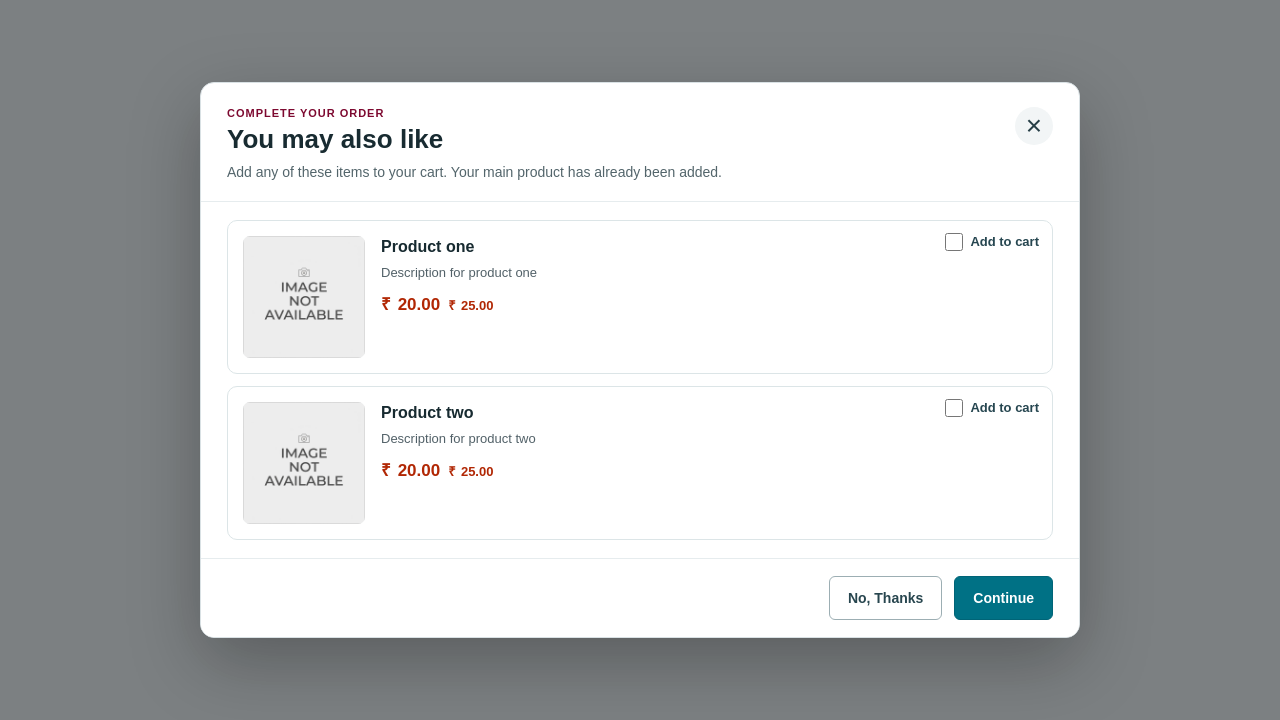
related product chooser › shows a recoverable server error and refreshes disallowed selections
Click the 1st checkbox labelled "Add to cart". click: [954, 242]
box: [945,233,963,251]
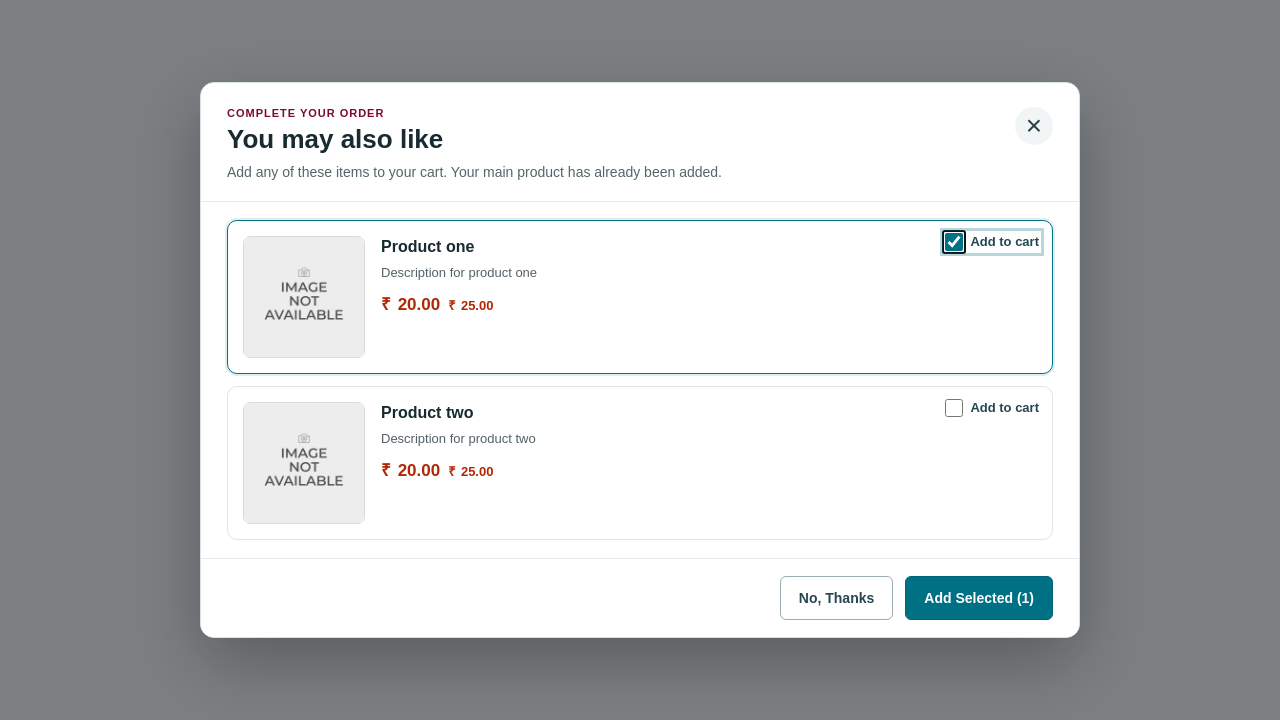
Click the button "Add Selected (1)". click: [979, 598]
box: [905,576,1053,620]
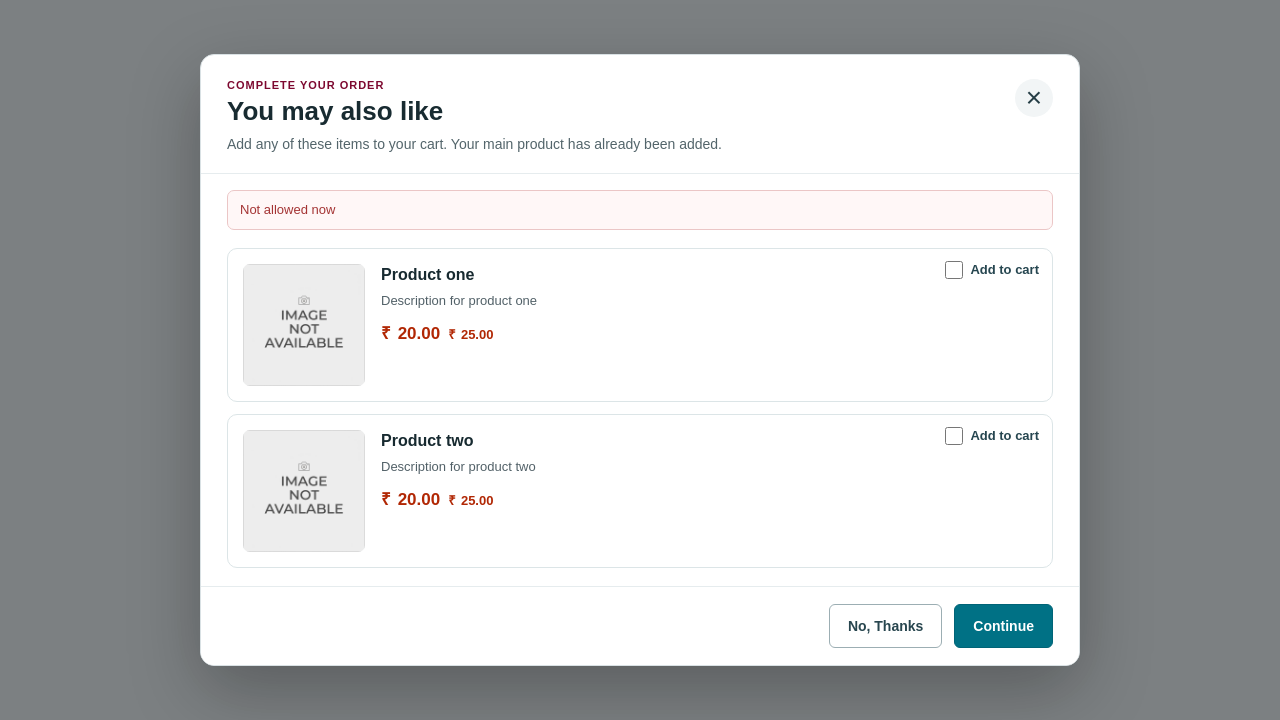
Now the message reads "Not allowed now", box [240,202,335,216]
